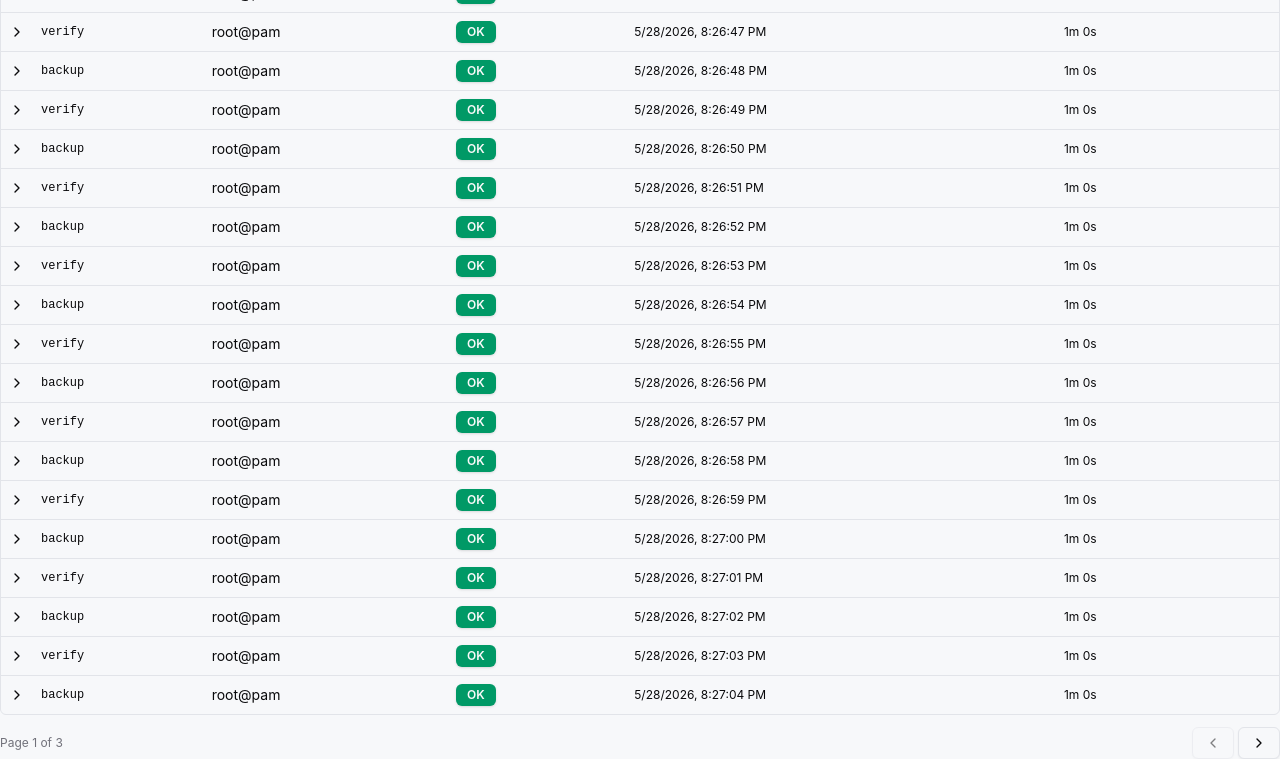
Test case: PBSTaskTable paging › clamps to the last page when the list shrinks under it
The image size is (1280, 759).
(page scrolled)
Click the button named "Next page" at (1259, 742), box [1238,726,1279,758]
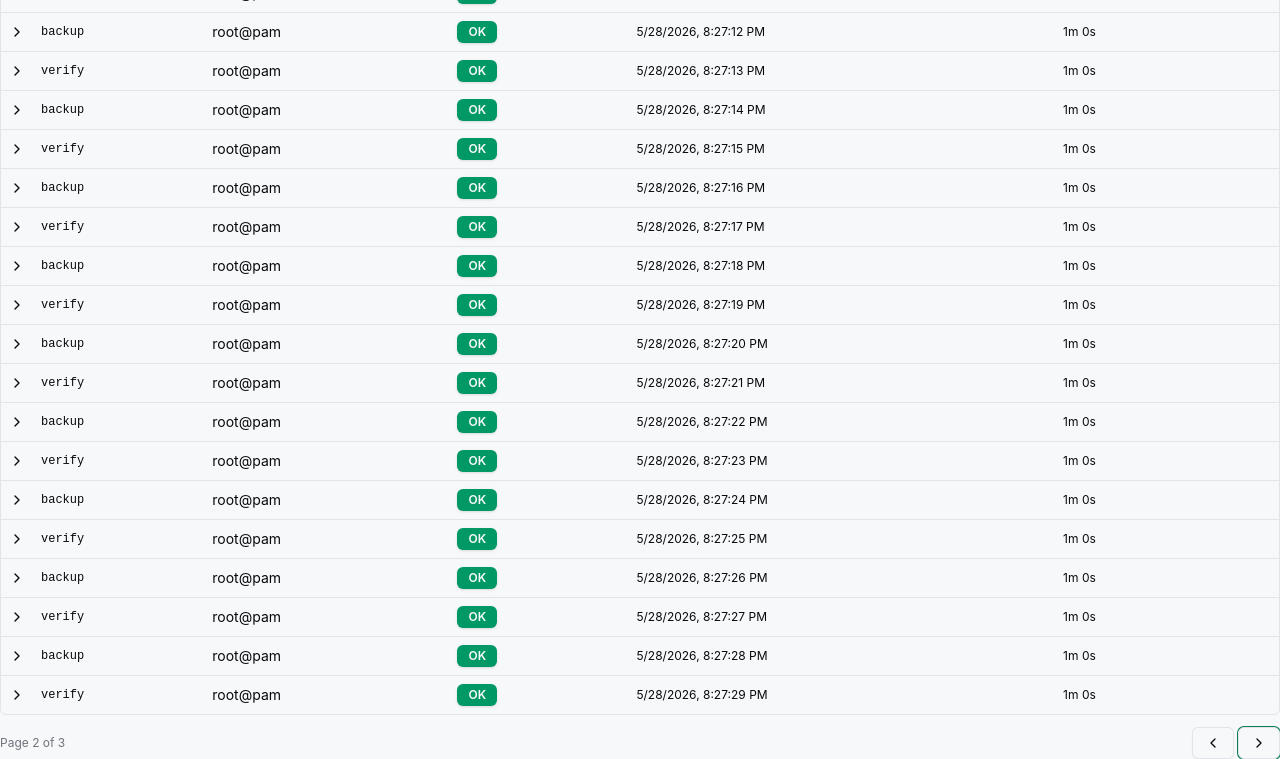
Click the button named "Next page" at (1259, 742), box [1238,726,1279,758]
(page scrolled)
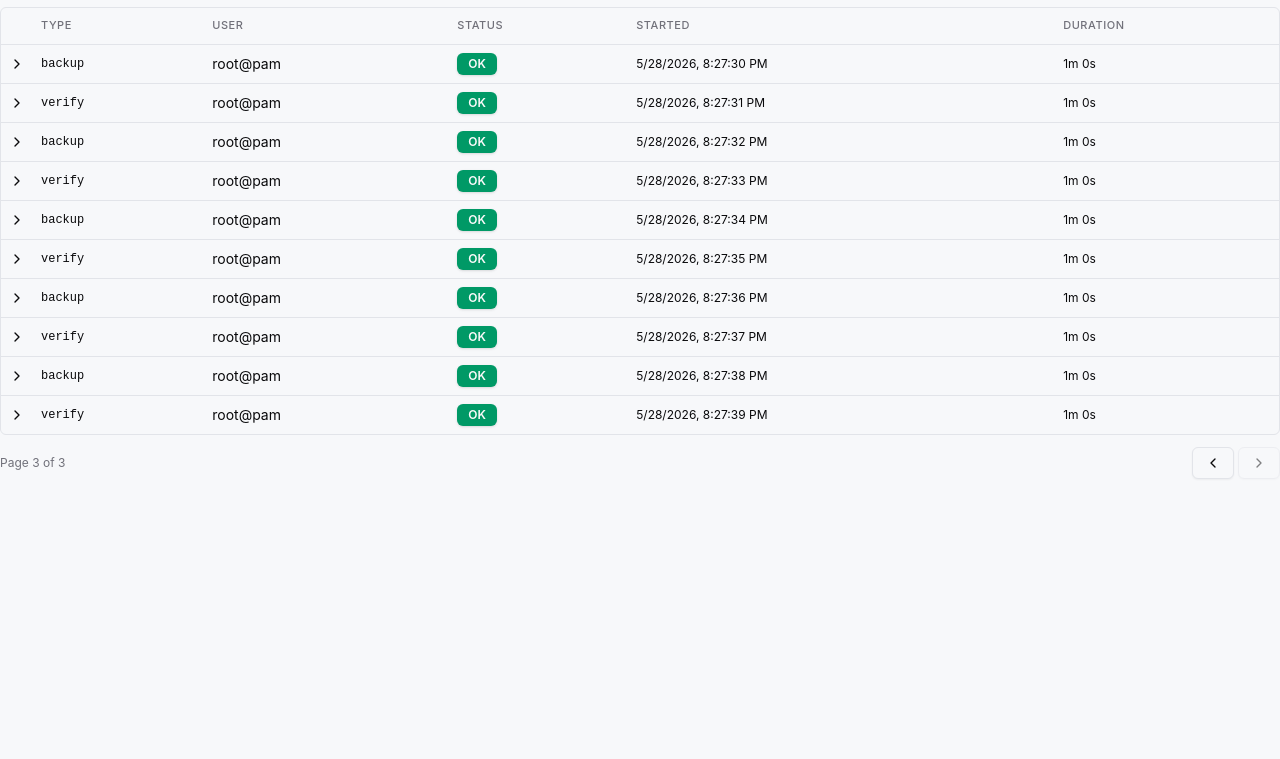
Expected: the text "Page 3 of 3" is shown, [0,454,65,470]
